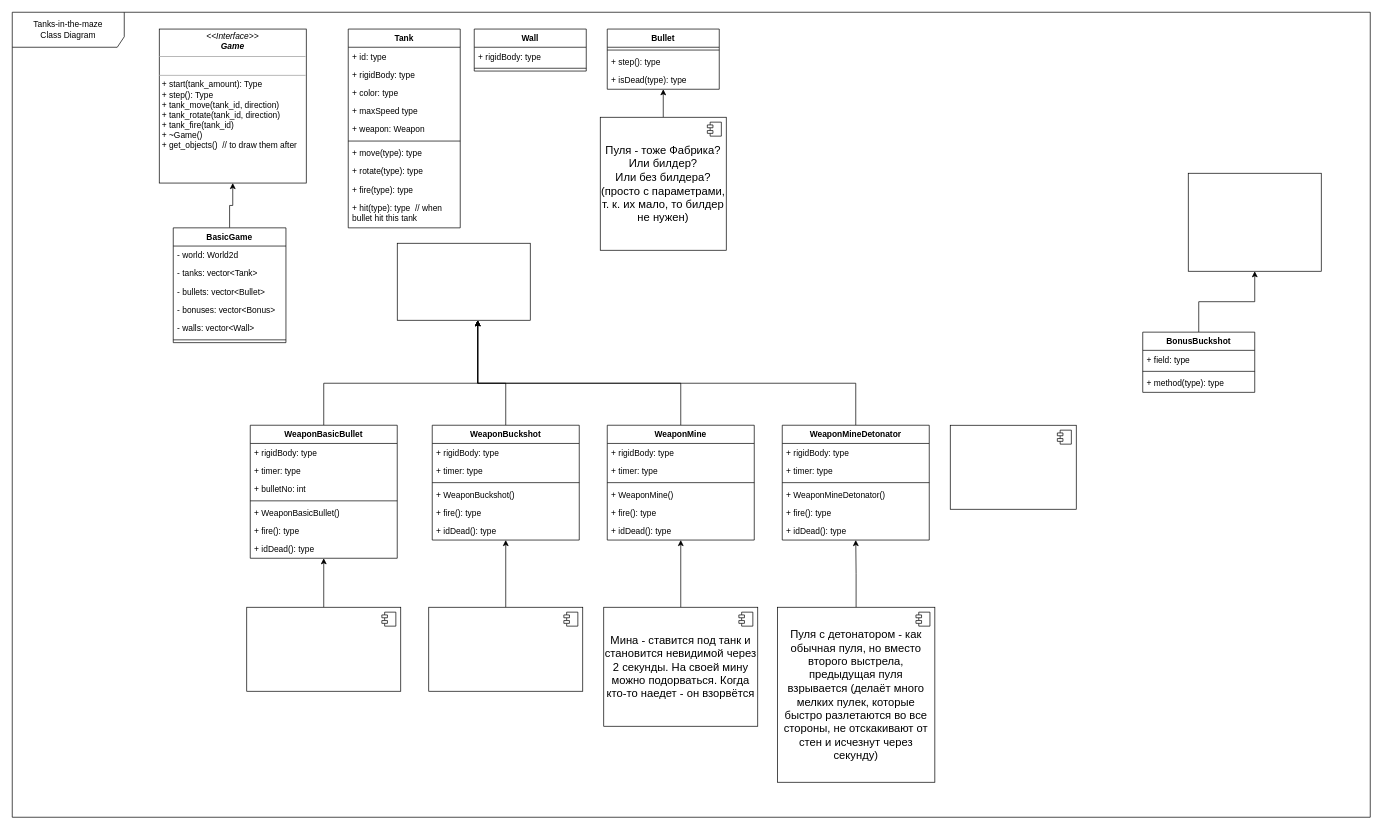
This 1383x830 diagram has some shape labels left out. Here are the shapes that lost their labels. From the top down, the centre of each, then its label:
At (1254,222): "<<Interface>> Bonus + isDead(Tank): Type + apply(Tank&): Type".
At (463,281): "<<Interface>> Weapon + fire(): Type + isDead(): Type".
At (1013,467): "Бонус Щит Пока не понятно, как его сделать (можно и не делать впринципе)".
At (323,649): "Обычная пуля - шарик, который отталкивается от стен (живет 15 секунд)".
At (505,649): "Дробь - много маленьких пуль (живут 2 секунды)".
